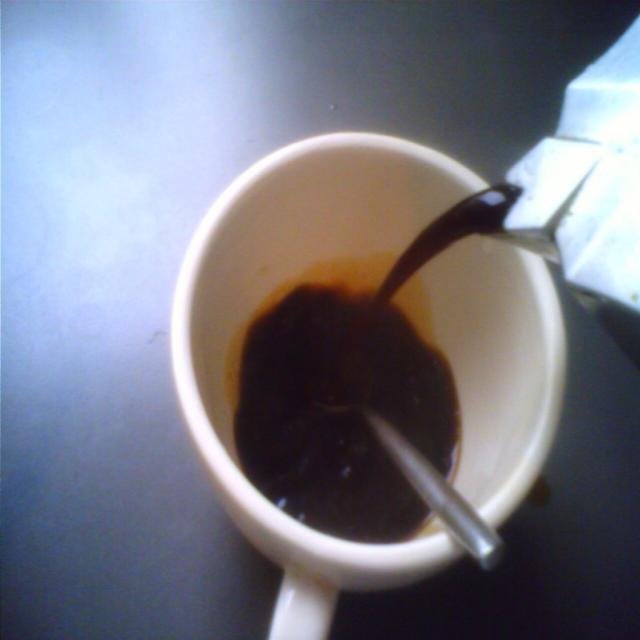Coffee: (168, 104, 529, 634)
Tea: (232, 164, 522, 546)
